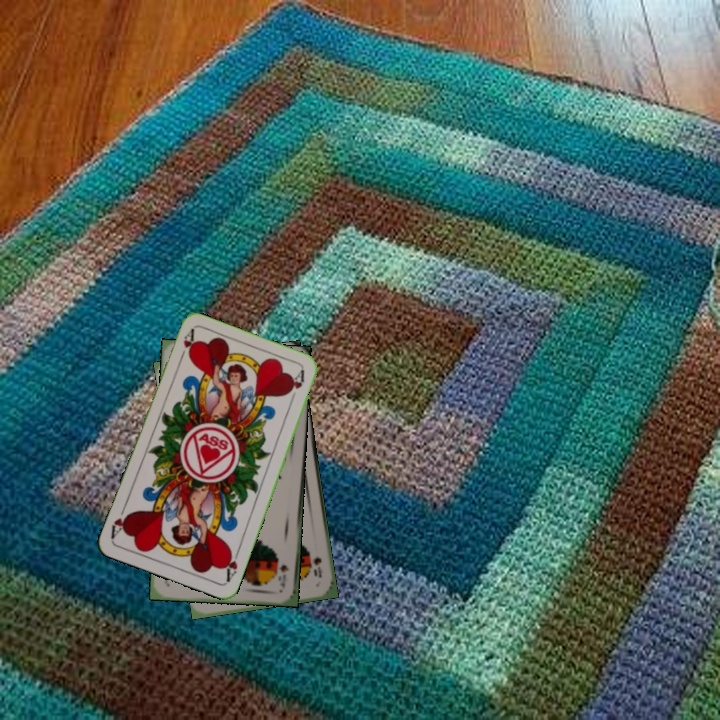HA: (220, 545, 242, 584), (175, 326, 197, 365)
SO: (275, 561, 292, 589), (309, 553, 324, 580)
